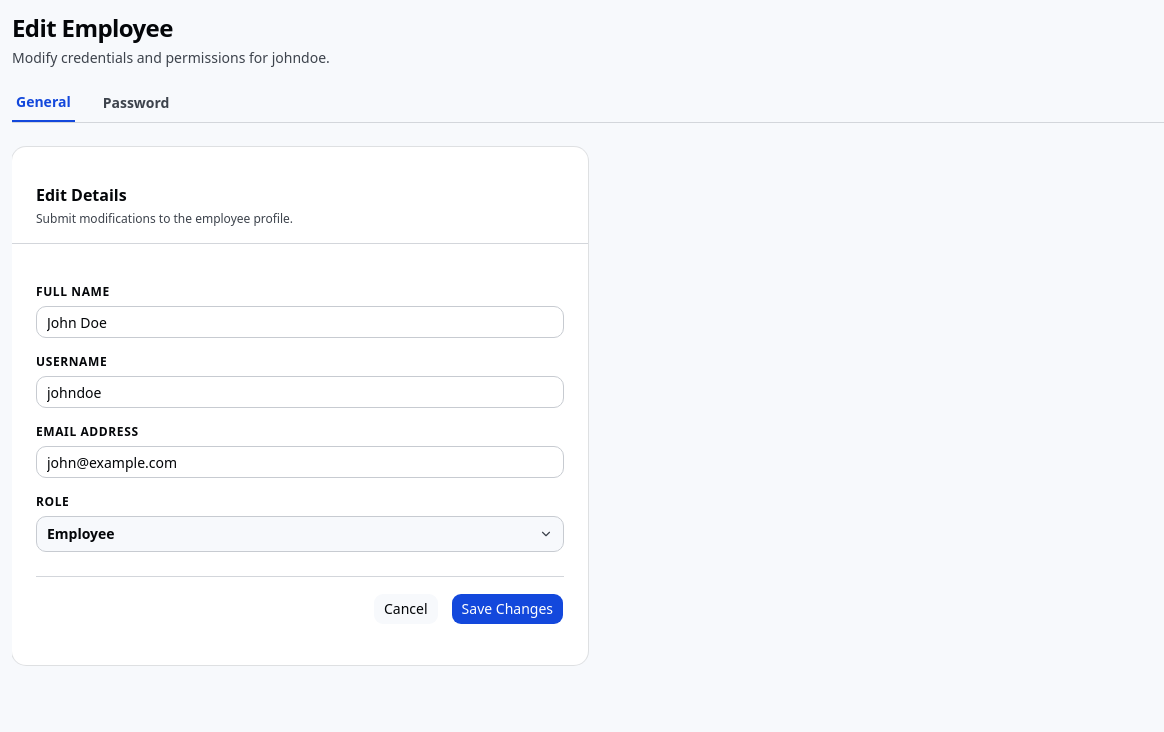
Test: EditEmployeeForm Component › should toggle password visibility on click
The width and height of the screenshot is (1164, 732).
# Switch to password tab
Click the button "Password" at (136, 107), box [99,92,174,122]
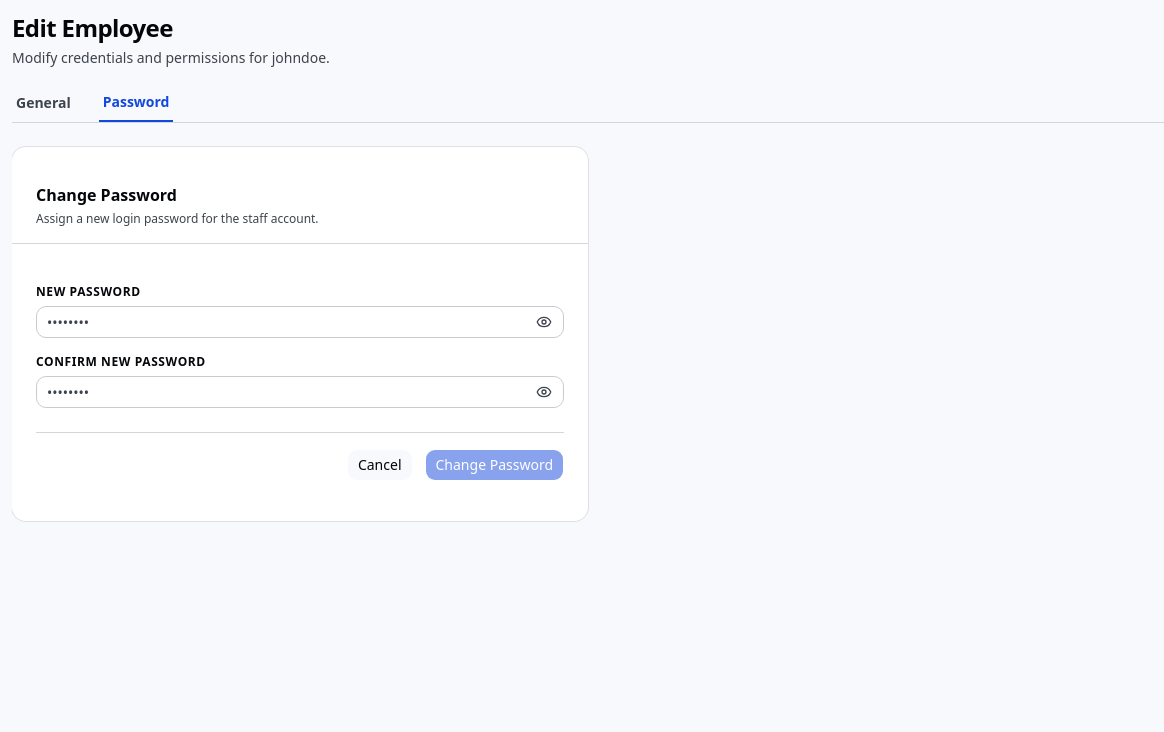
Click the 3rd button at (544, 322), box [536,314,552,330]
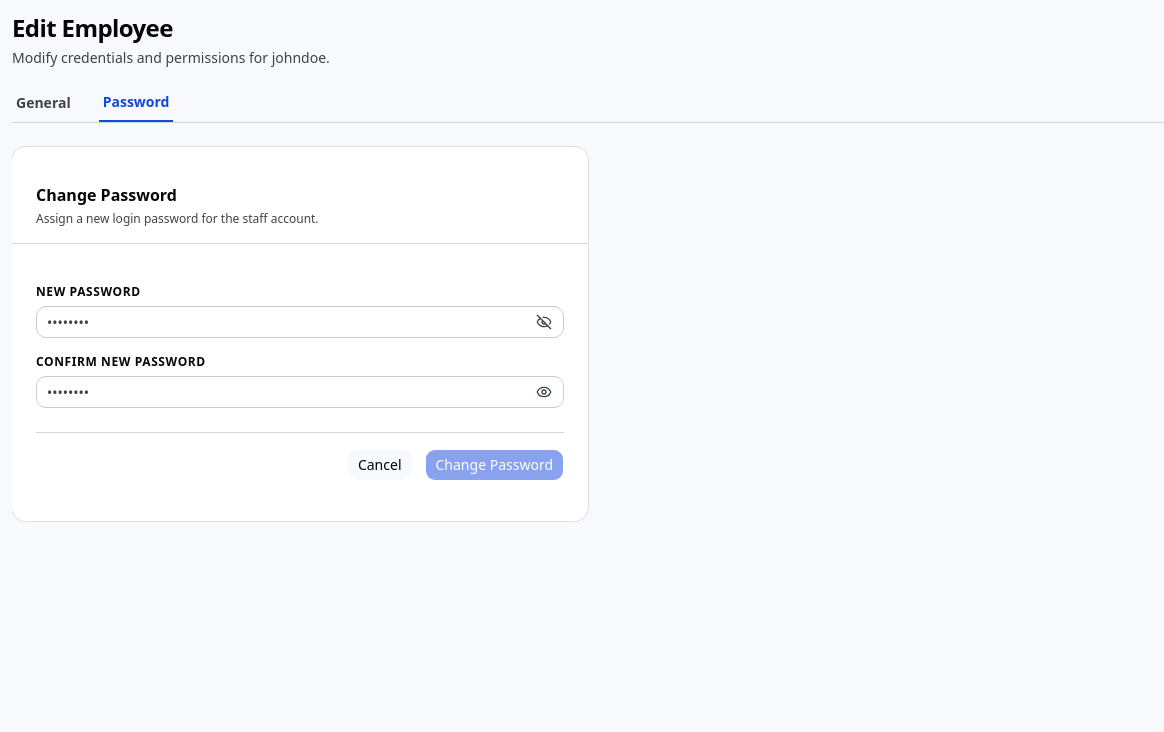
Click the 3rd button at (544, 322), box [536,314,552,330]
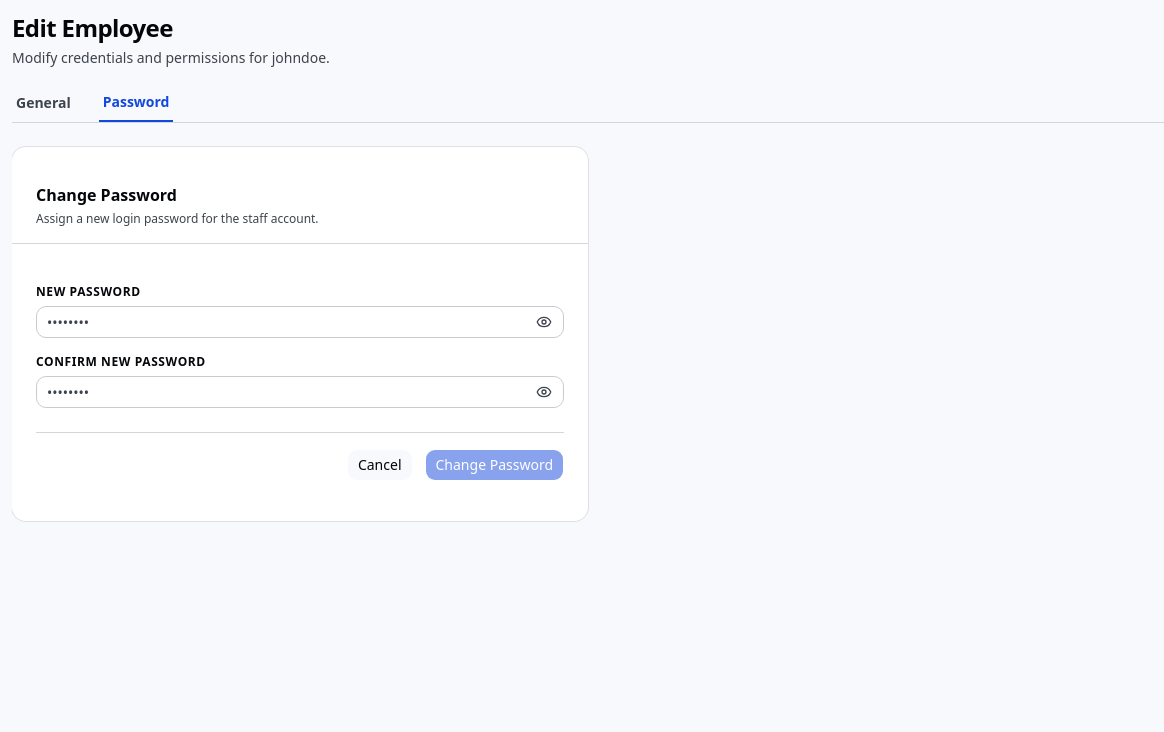
Click the 4th button at (544, 392), box [536,384,552,400]
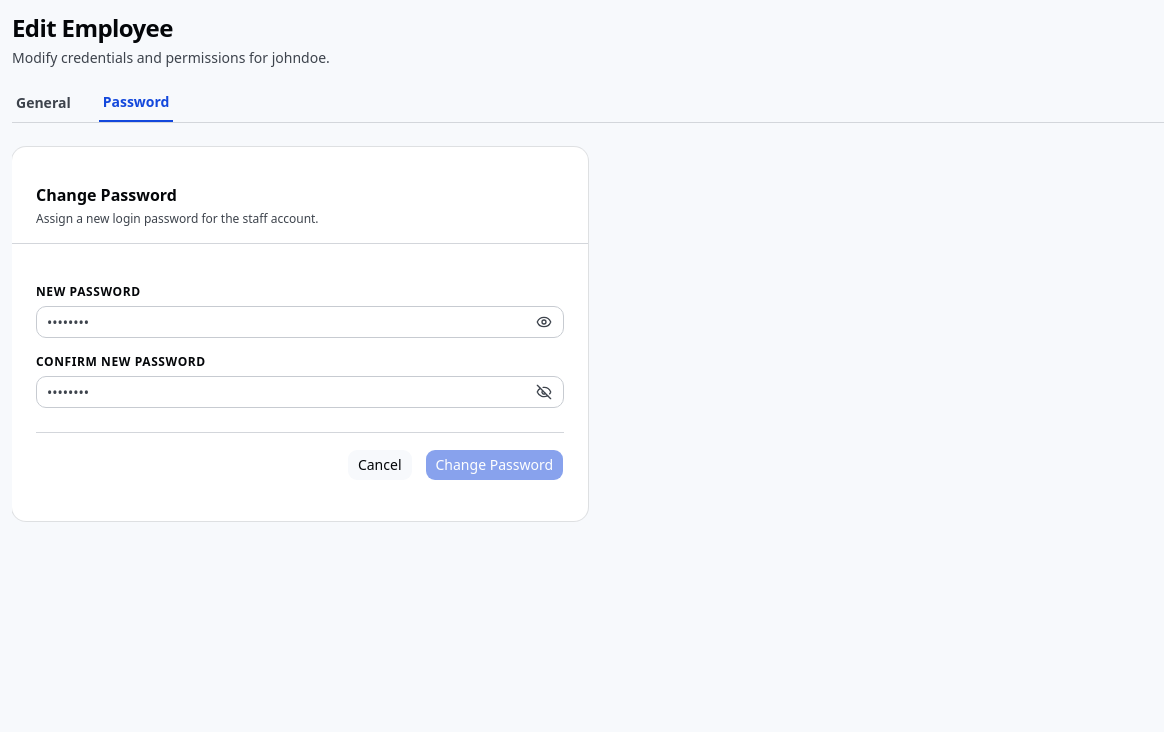
Click the 4th button at (544, 392), box [536,384,552,400]
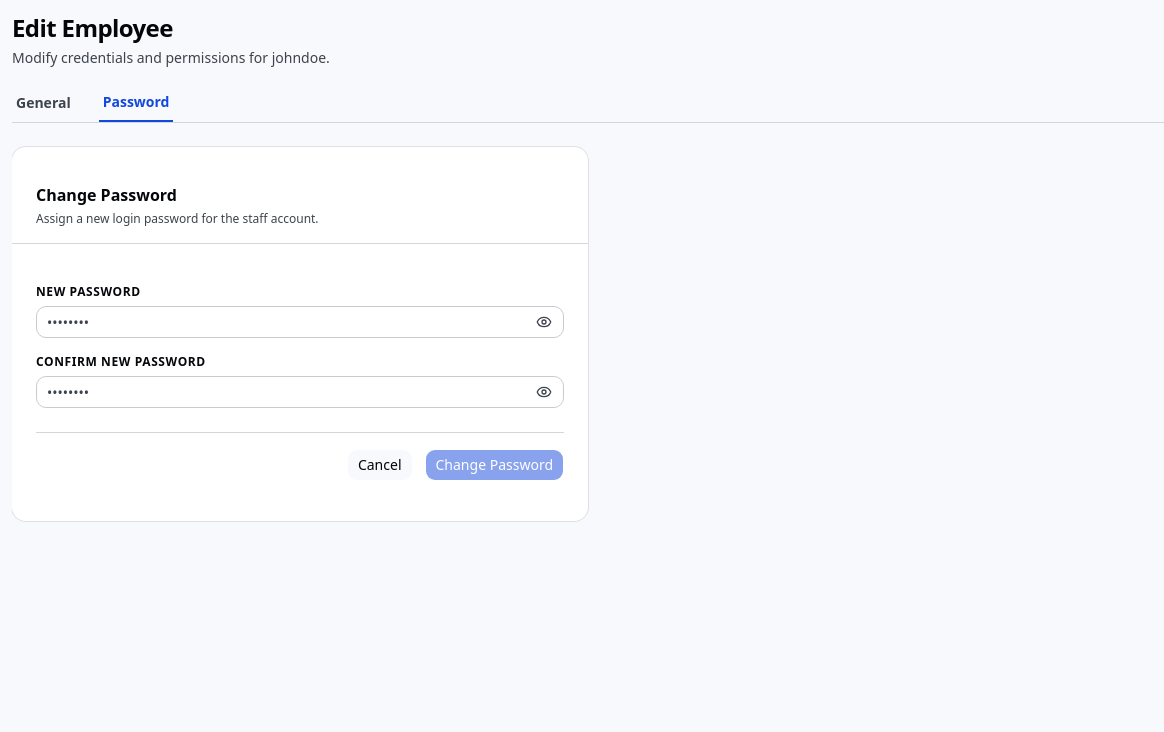
Click the button "General" at (43, 107), box [12,92,75,122]
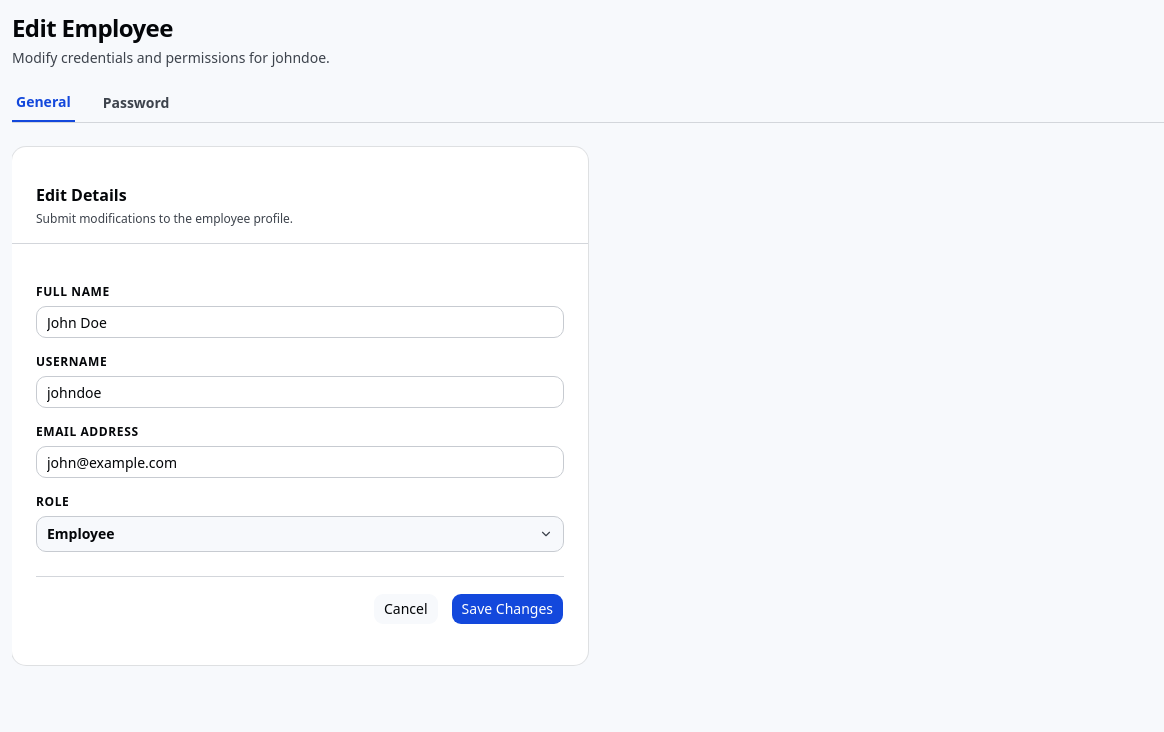
Check: the field labelled "Full Name" is shown, box [36,306,564,338]
